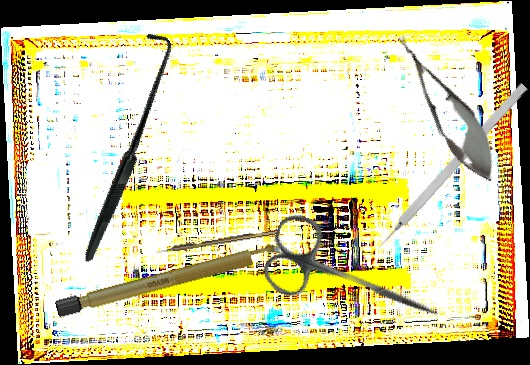Hook Surgical: (4, 27, 244, 263), (369, 82, 529, 258), (155, 228, 281, 255)
Iris Scissors: (256, 209, 454, 349)
Micro Scissor: (382, 25, 511, 191)
Scalpel Handle: (54, 239, 287, 319)
